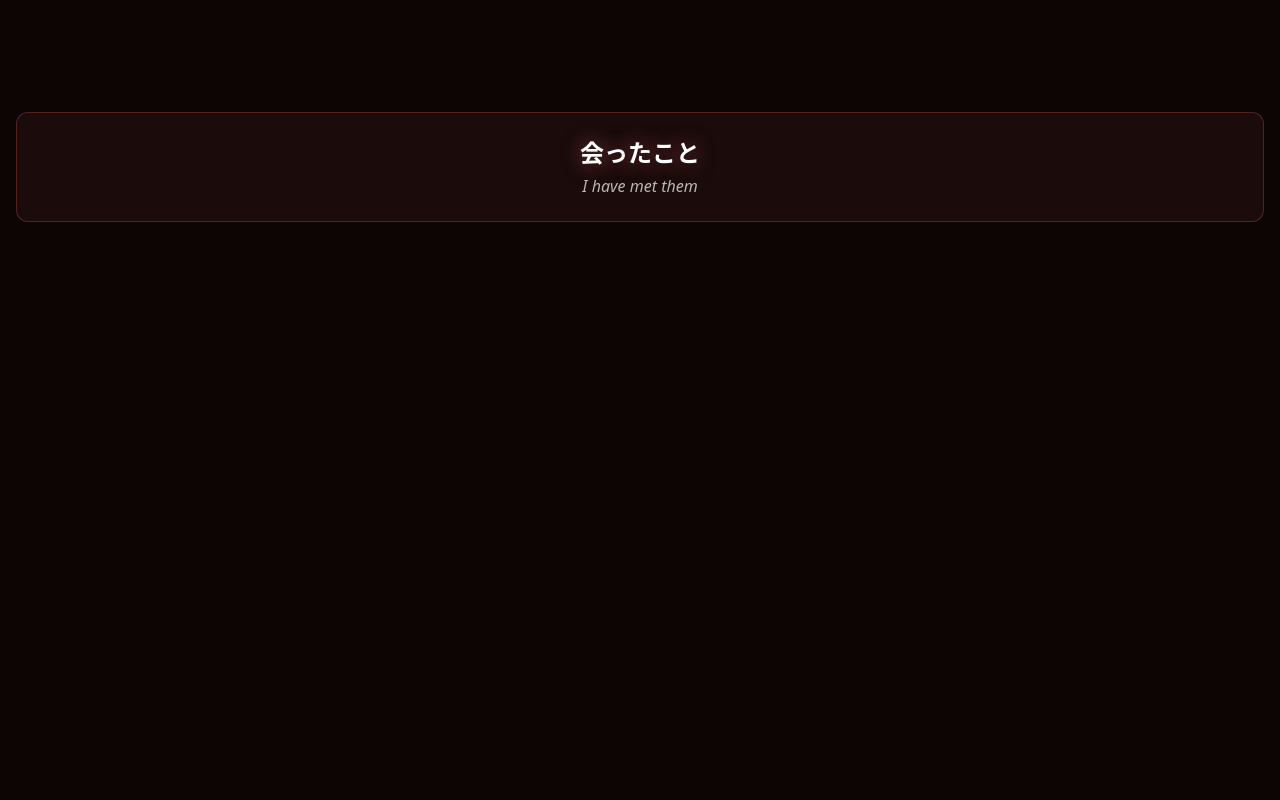
grammar hints › says nothing about grammar for a word outside the pattern
The image size is (1280, 800).
Click the button with aria-label "look up 会っ" at (604, 152), box [580,134,628,169]
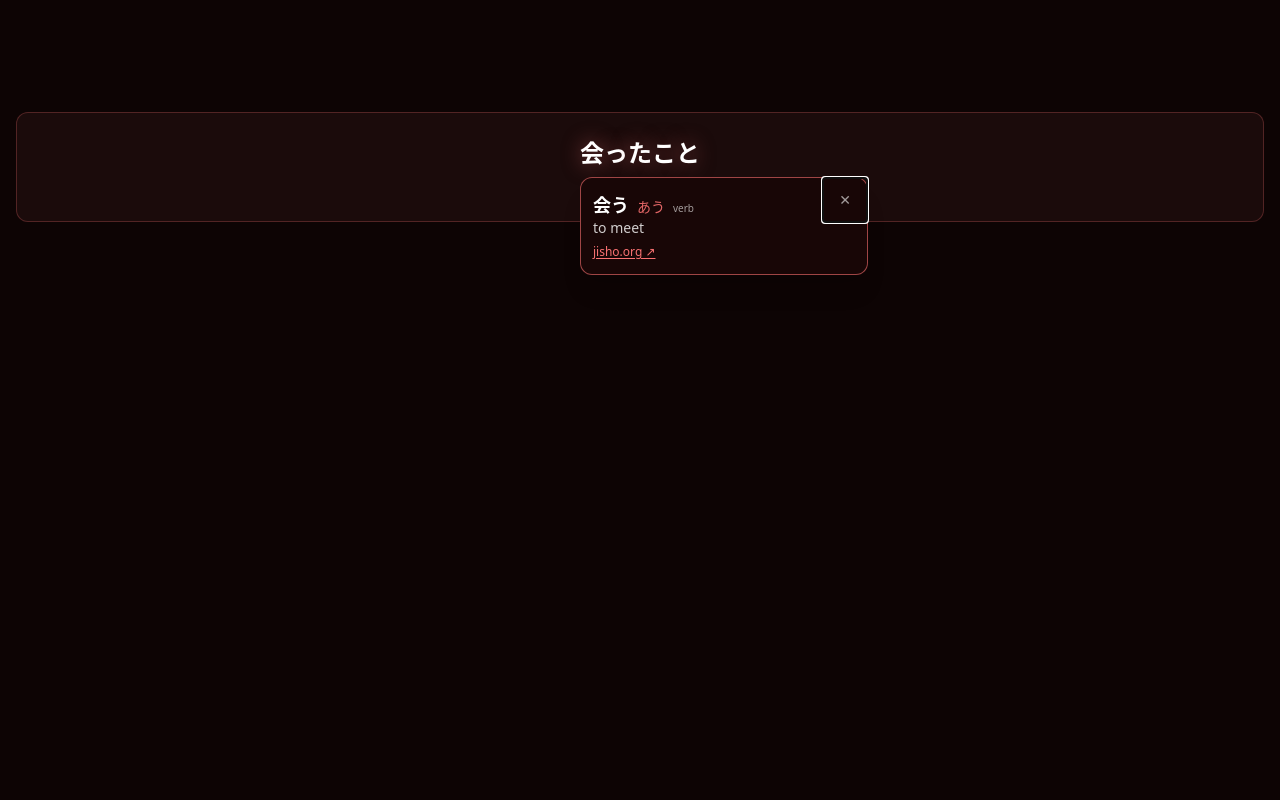
Expected: the dialog named "dictionary entry" is shown, [580,177,868,275]
